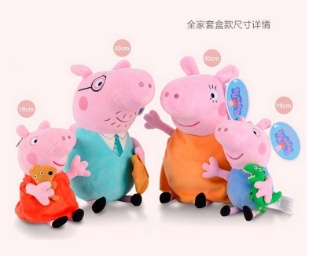Peppa: (12, 120, 92, 230)
